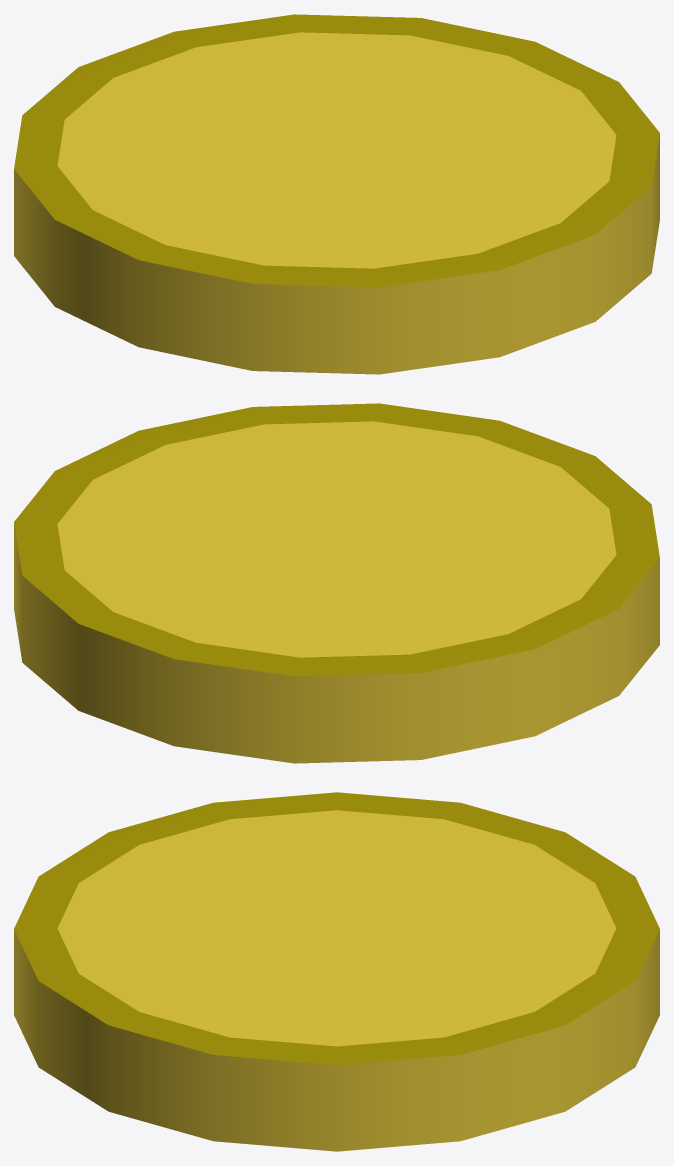
File: gold.glb
3 views of the same model, one above another, from view 1: azimuth 30°, elevation 25°; view 2: azimuth 150°, elevation 25°; view 3: azimuth 270°, elevation 25° (orthographic).
Parts seen in each view (by area): view 1: ItemGold; view 2: ItemGold; view 3: ItemGold.
Part boxes in pixels (x1,y1,x2,y2): ItemGold: (14,14,659,374); ItemGold: (14,403,659,763); ItemGold: (14,792,659,1151).
Bounding box in the file's own units: 0.2807 × 0.0418 × 0.2807.
